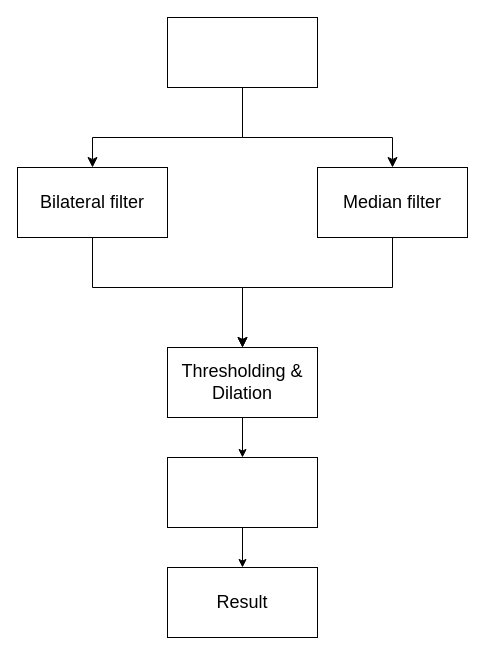
The diagram is 485 pixels wide and 655 high, and some of its shapes have lost their labels. Each missing label, with the centre of its shape:
denoised image: the point at 242,52
Detection: the point at 242,492
